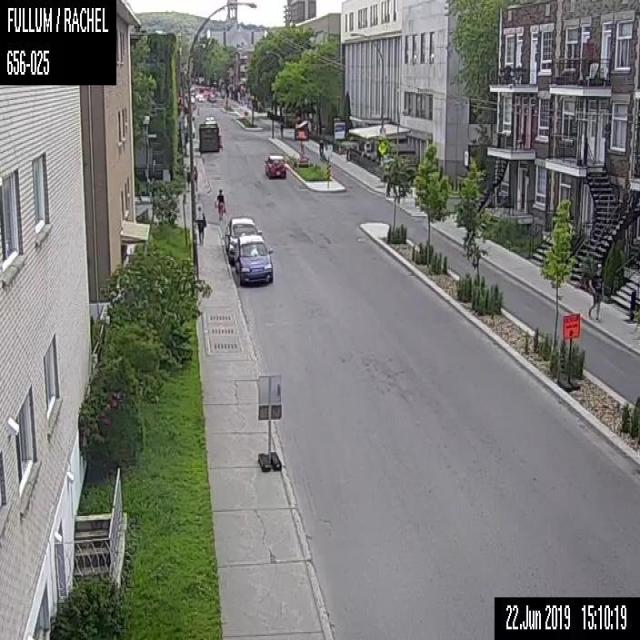construction: (256, 373, 283, 472), (293, 126, 309, 165), (562, 312, 580, 338)
pedestrian: (587, 261, 603, 320), (194, 204, 207, 245), (213, 188, 226, 223), (193, 164, 197, 191), (185, 165, 189, 188), (279, 120, 283, 138)
vehicle: (234, 234, 272, 287), (225, 216, 262, 265), (264, 152, 286, 178), (203, 120, 217, 124), (204, 115, 214, 119), (198, 94, 204, 100)
